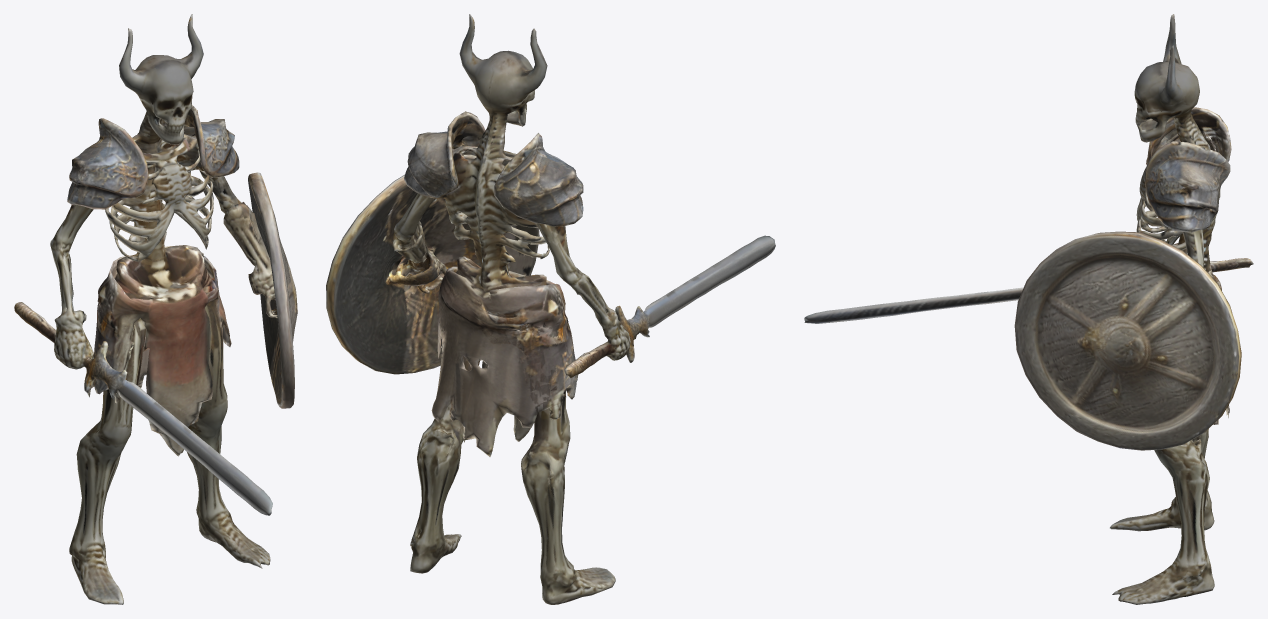
Rendered from skeleton_warrior_0911173652_refine.fbx.
3 renders of one model, left to right at view 1: azimuth 30°, elevation 25°; view 2: azimuth 150°, elevation 25°; view 3: azimuth 270°, elevation 25°, orthographic. The views are drawn at different scales.
Parts seen in each view (by area): view 1: file1; view 2: file1; view 3: file1.
Part boxes in pixels (x1,y1,x2,y2): file1: (14,14,297,604); file1: (326,14,775,604); file1: (804,14,1253,604).
Bounding box in the file's own units: 50.8 × 105 × 80.13.
1 material, 1 textured.
